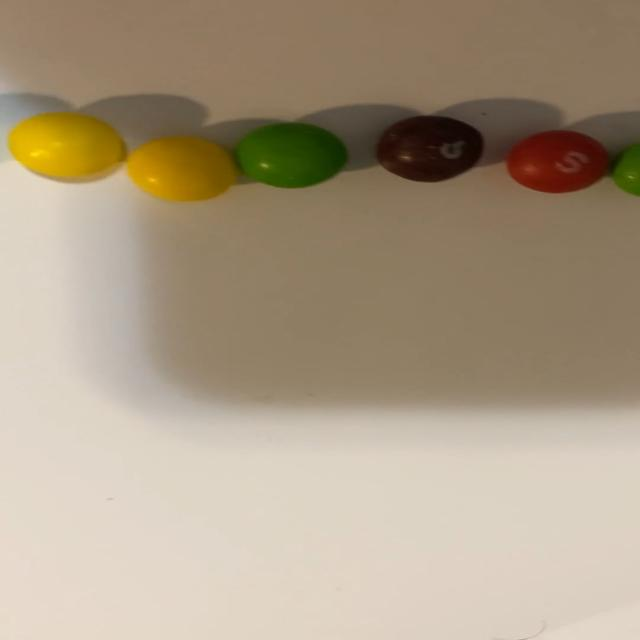smartie: (7, 112, 123, 176), (235, 122, 347, 188), (127, 136, 238, 201), (376, 115, 483, 182), (507, 130, 610, 192)
